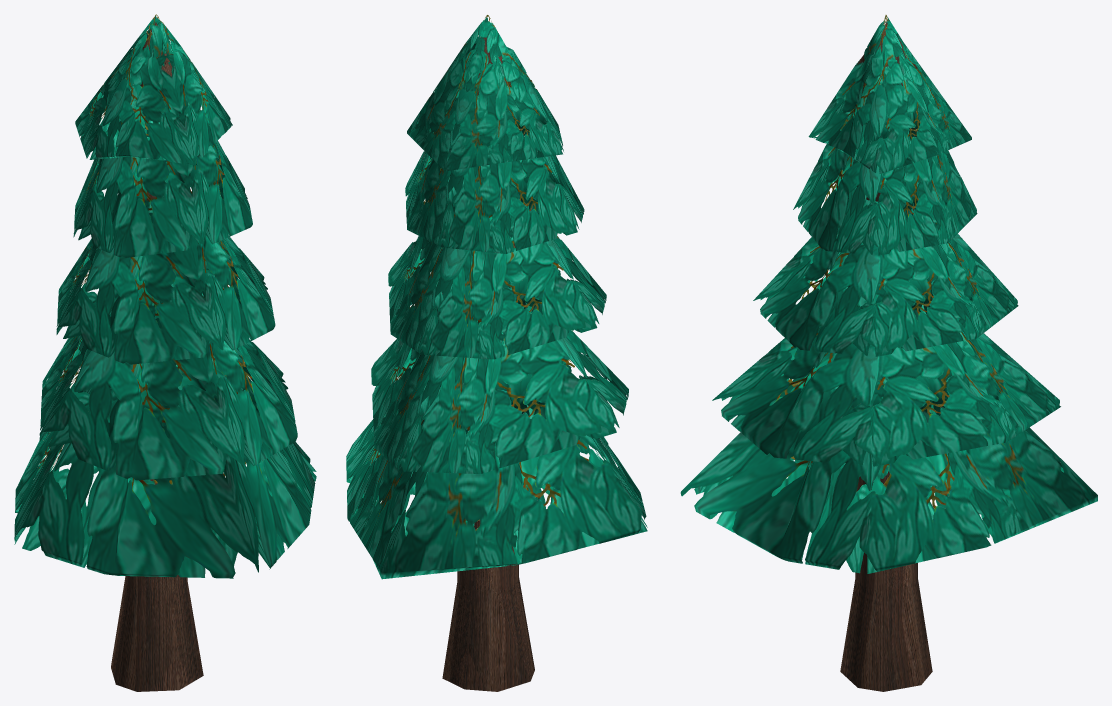
File: Ingame_3d_002.fbx
3 views of the same model, side by side, from view 1: azimuth 30°, elevation 25°; view 2: azimuth 150°, elevation 25°; view 3: azimuth 270°, elevation 25° (orthographic).
Visible parts, largest first — view 1: Cube.004, Cube.002, Cube.001, Cube.005, Cube.003, Cube; view 2: Cube.004, Cube.002, Cube.001, Cube.005, Cube.003, Cube; view 3: Cube.004, Cube.002, Cube.001, Cube.005, Cube.003, Cube.
Part boxes in pixels (bbox=[...]): Cube.004: bbox=[14, 355, 316, 578]; Cube.002: bbox=[39, 293, 297, 480]; Cube.001: bbox=[56, 202, 275, 364]; Cube.005: bbox=[73, 103, 252, 257]; Cube.003: bbox=[75, 14, 232, 165]; Cube: bbox=[111, 22, 203, 691]; Cube.004: bbox=[346, 374, 647, 579]; Cube.002: bbox=[371, 302, 628, 473]; Cube.001: bbox=[388, 202, 606, 359]; Cube.005: bbox=[405, 80, 584, 253]; Cube.003: bbox=[407, 15, 563, 171]; Cube: bbox=[442, 37, 534, 691]; Cube.004: bbox=[680, 366, 1097, 573]; Cube.002: bbox=[712, 294, 1060, 466]; Cube.001: bbox=[753, 199, 1018, 356]; Cube.005: bbox=[793, 93, 977, 255]; Cube.003: bbox=[808, 15, 971, 173]; Cube: bbox=[840, 22, 932, 691].
Bounding box in the file's own units: 543 × 1128 × 654.
